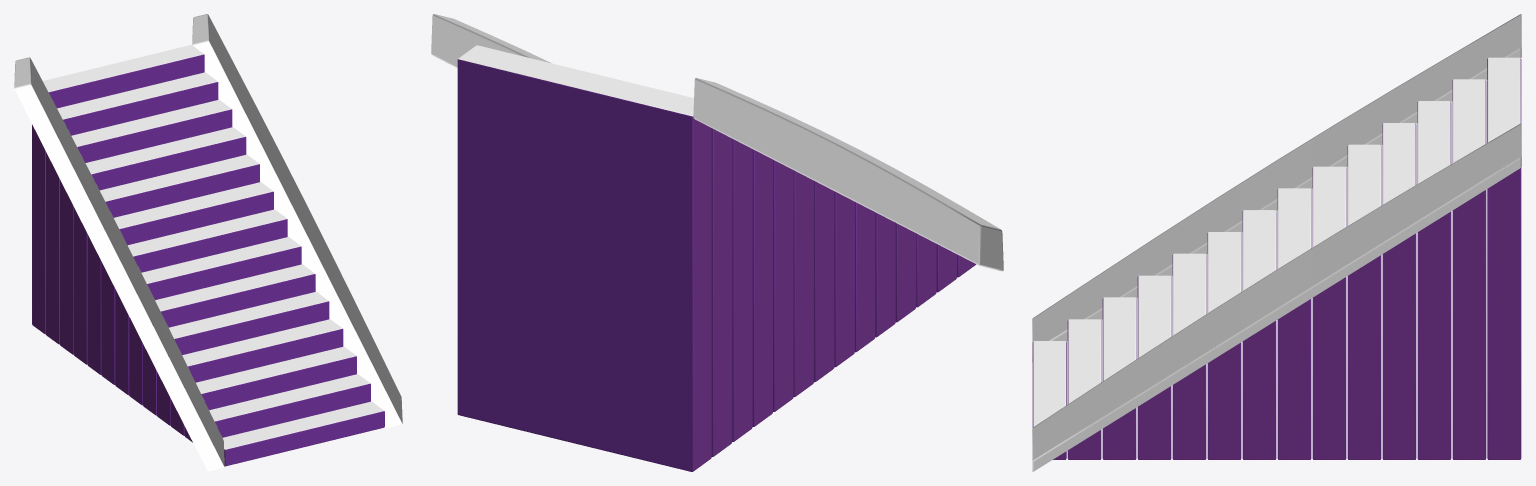
File: wall-stair.glb
The picture shows the model from 3 angles, left to right: view 1: azimuth 30°, elevation 25°; view 2: azimuth 150°, elevation 25°; view 3: azimuth 270°, elevation 25°; orthographic projection. The views are drawn at different scales.
Visible parts, largest first — view 1: wall-stair; view 2: wall-stair; view 3: wall-stair.
Boxes of the visible parts, x1,y1,x2,y2 form: wall-stair: (14, 14, 402, 471); wall-stair: (431, 14, 1003, 471); wall-stair: (1032, 14, 1521, 471).
Bounding box in the file's own units: 2.2 × 2.89 × 3.78.
